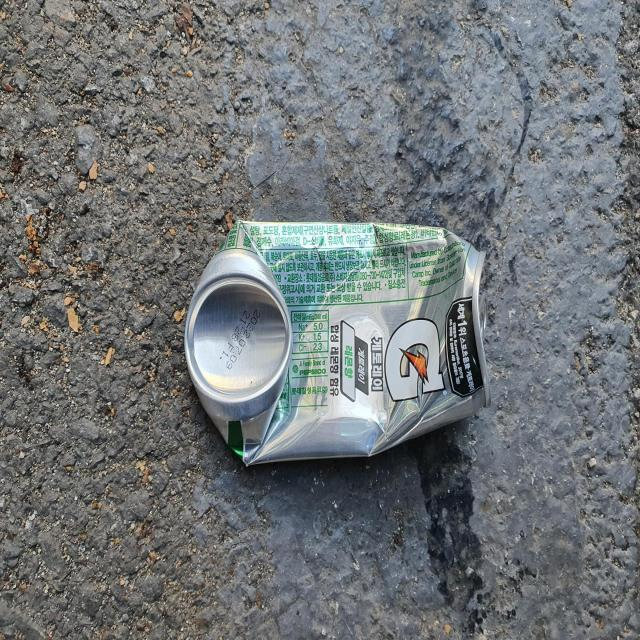can: (185, 220, 491, 465)
